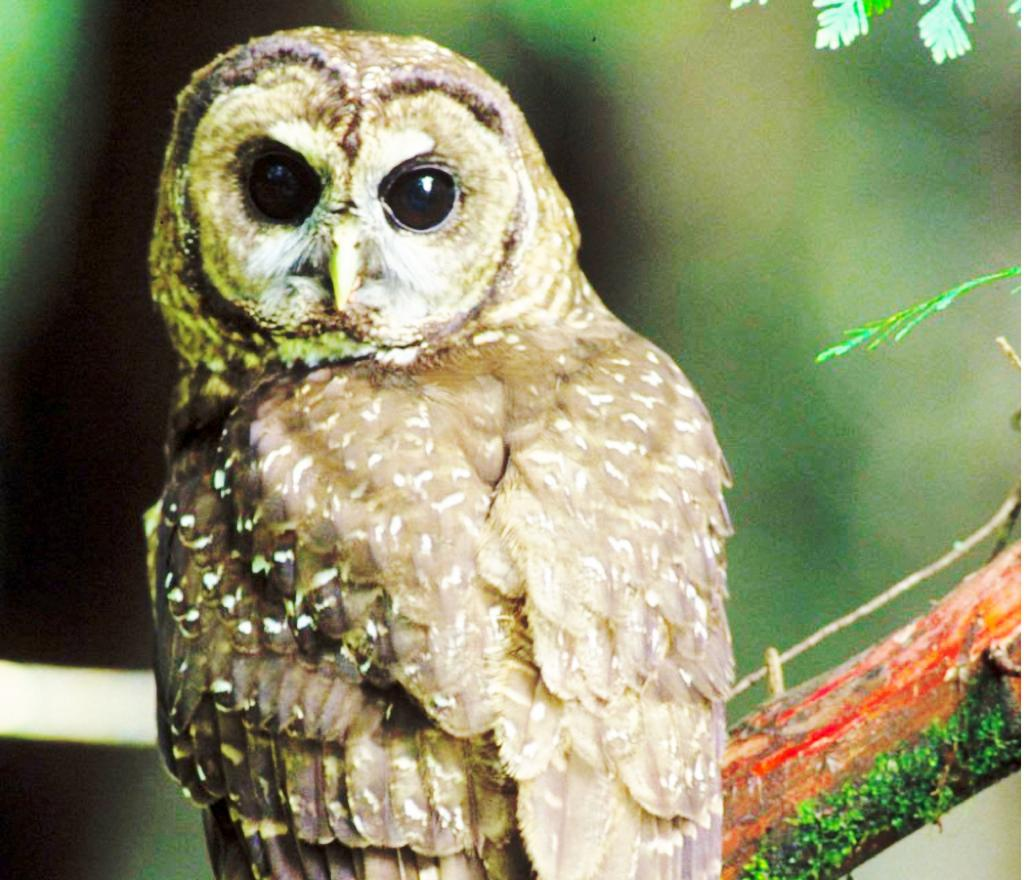Owl: (142, 24, 742, 879)
